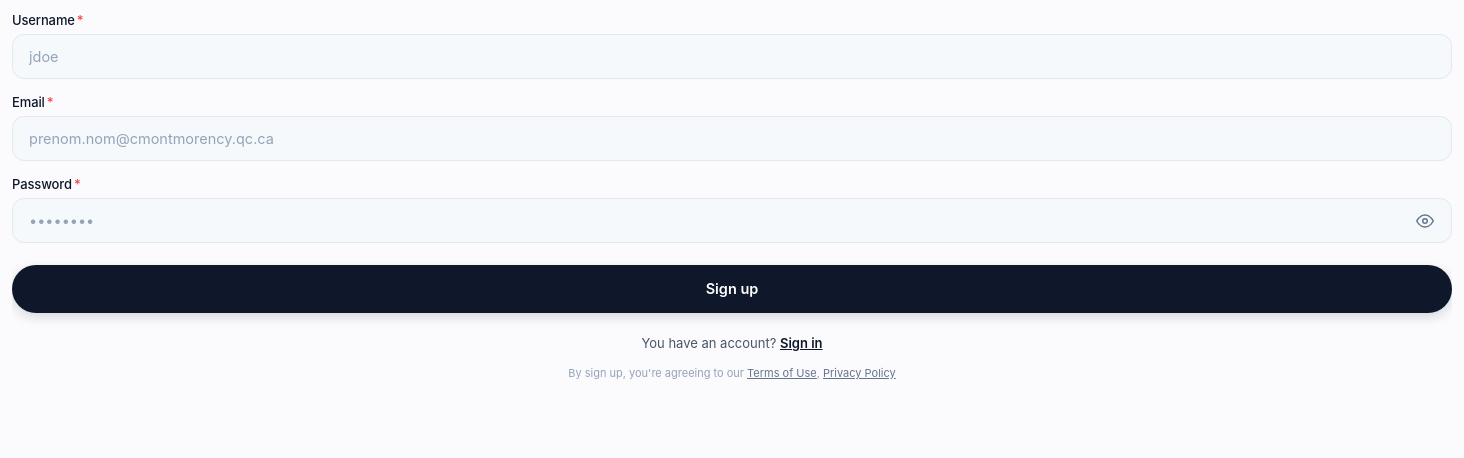
LoginForm — inscription › crée le compte avec des données valides
Type " jdoe " into the field labelled "Username*".
click(732, 56); type(" jdoe ")  # box left=12, top=34, right=1452, bottom=79
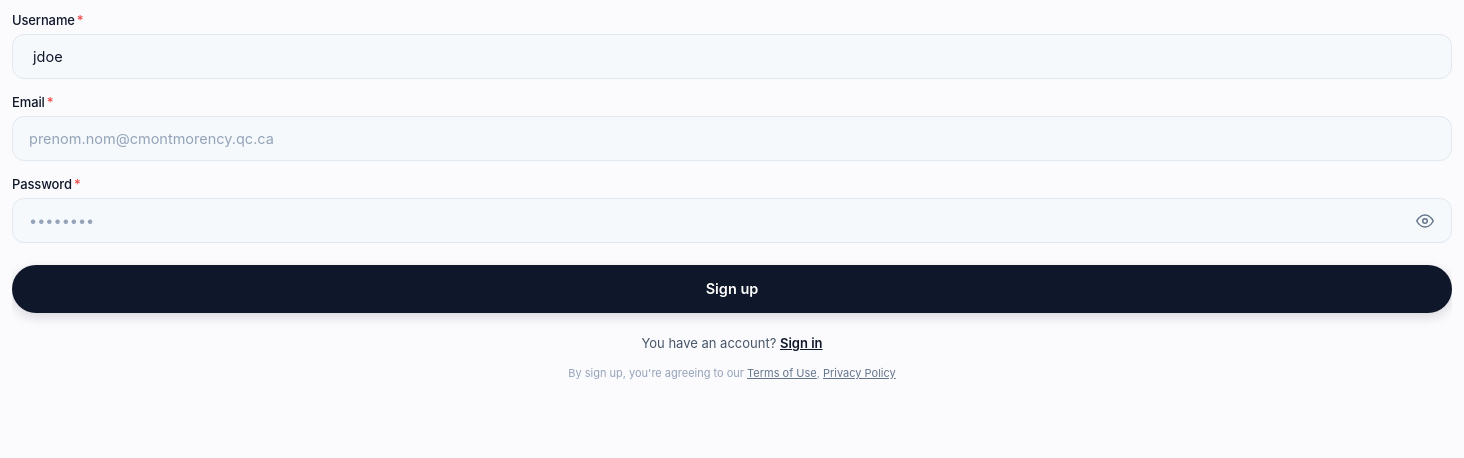
Type " jdoe@cmontmorency.qc.ca " into the field labelled "Email*".
click(732, 138); type(" jdoe@cmontmorency.qc.ca ")  # box left=12, top=116, right=1452, bottom=161
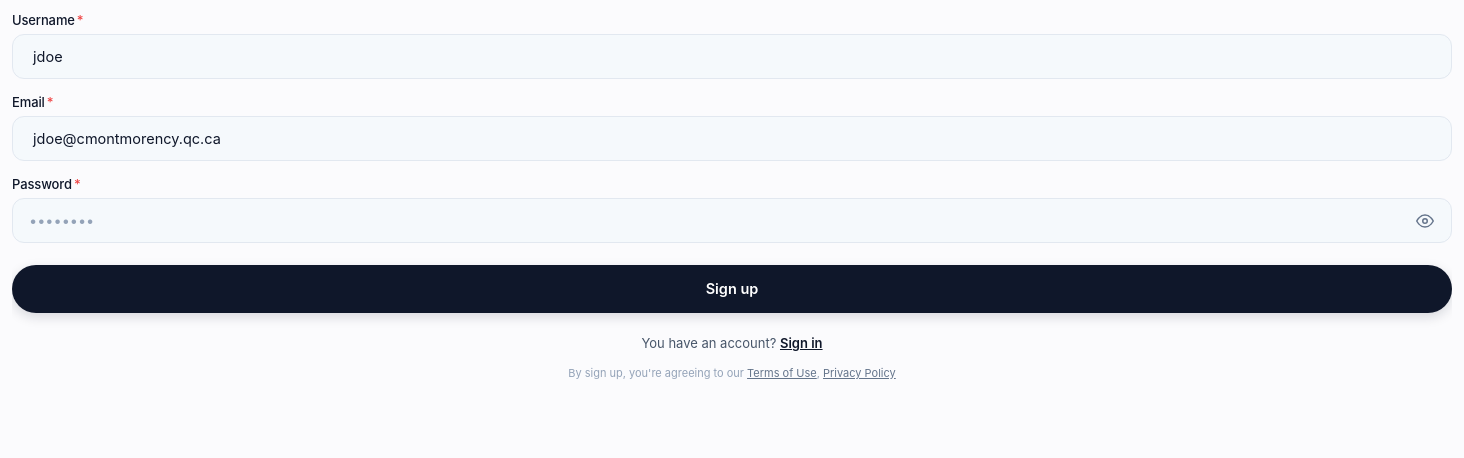
Type "motdepasse123" into the password field labelled "Password*".
click(732, 220); type("motdepasse123")  # box left=12, top=198, right=1452, bottom=243
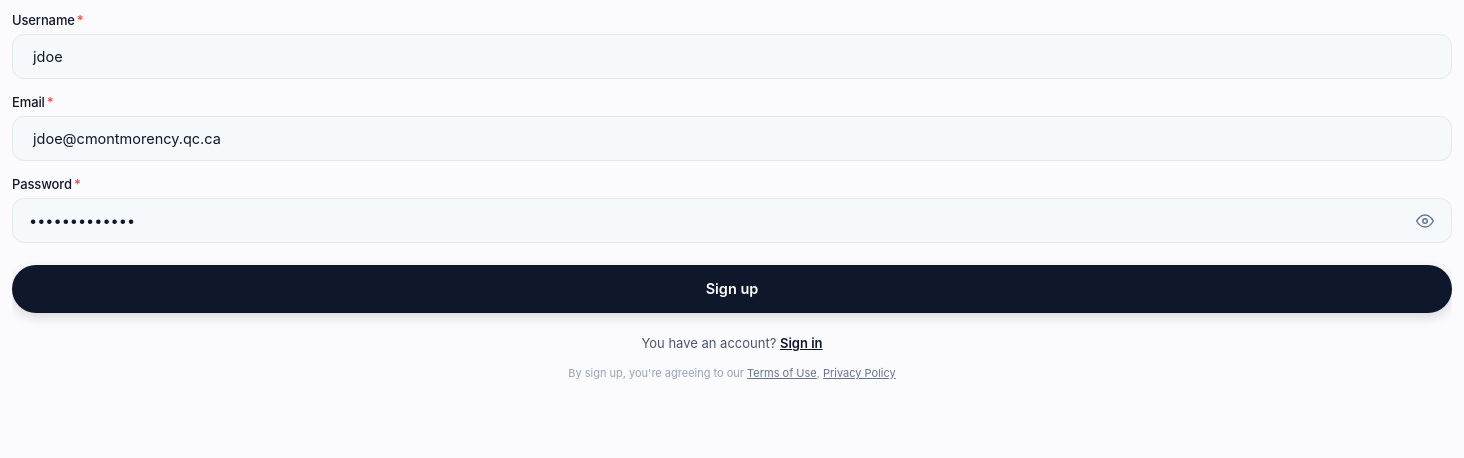
Click the button "Sign up".
click(732, 289)  # box left=12, top=265, right=1452, bottom=313
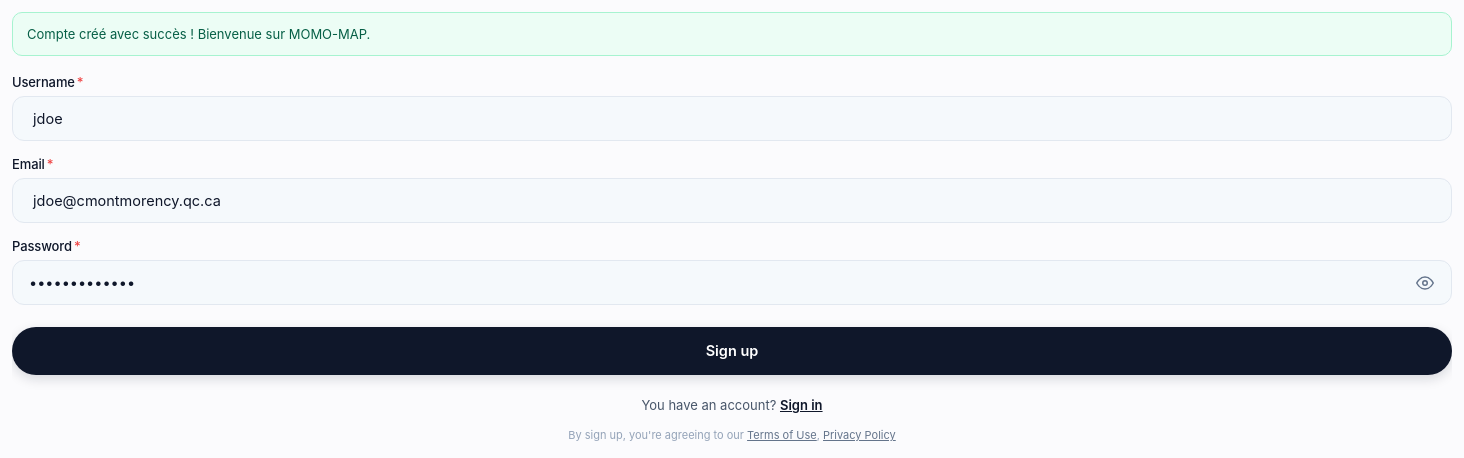
Expected: the text "Compte créé avec succès ! Bienvenue sur MOMO-MAP." is shown, left=12, top=12, right=1452, bottom=56
